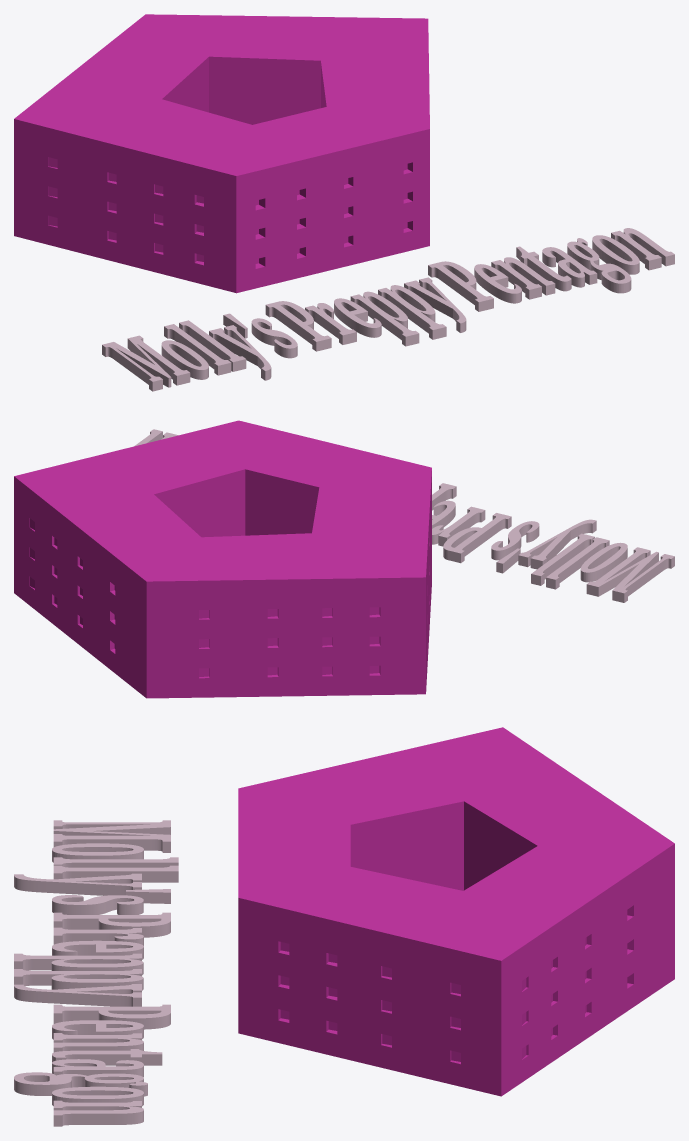
Rendered from Molly D - Pentagon.glb.
3 views of the same model, one above another, from view 1: azimuth 30°, elevation 25°; view 2: azimuth 150°, elevation 25°; view 3: azimuth 270°, elevation 25° (orthographic). The views are drawn at different scales.
Parts seen in each view (by area): view 1: Mesh_Mesh_head_geo.001_lambert2SG.001; view 2: Mesh_Mesh_head_geo.001_lambert2SG.001; view 3: Mesh_Mesh_head_geo.001_lambert2SG.001.
Boxes of the visible parts, bbox=[...] form: Mesh_Mesh_head_geo.001_lambert2SG.001: bbox=[14, 14, 674, 391]; Mesh_Mesh_head_geo.001_lambert2SG.001: bbox=[14, 420, 674, 698]; Mesh_Mesh_head_geo.001_lambert2SG.001: bbox=[14, 727, 674, 1126].
Bounding box in the file's own units: 0.113 × 0.0242 × 0.1069.
